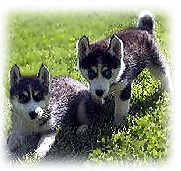dog: (5, 65, 131, 158), (77, 12, 171, 131)
